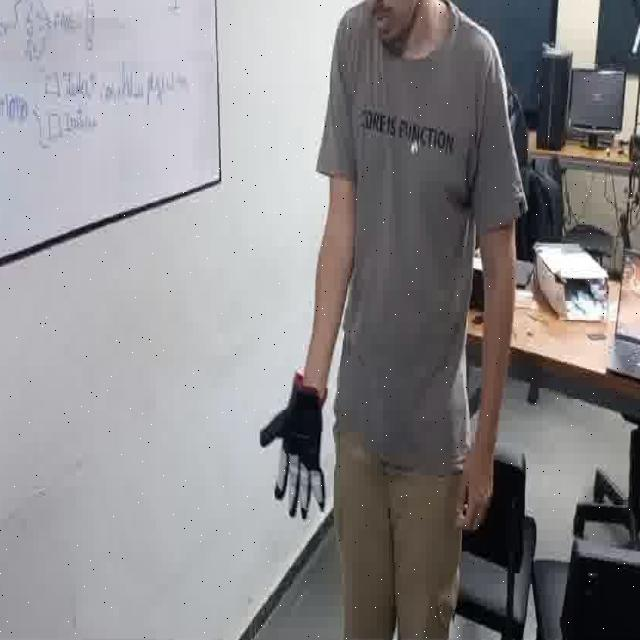Gloves: (258, 388, 326, 520)
